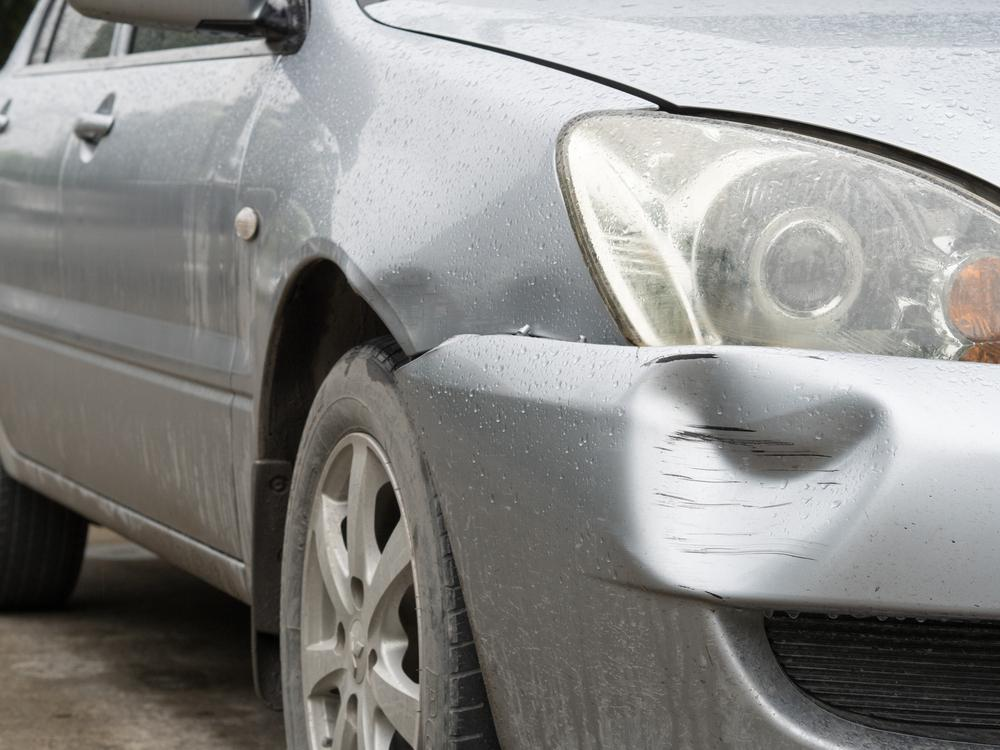dent: (627, 354, 886, 596), (360, 267, 439, 340)
